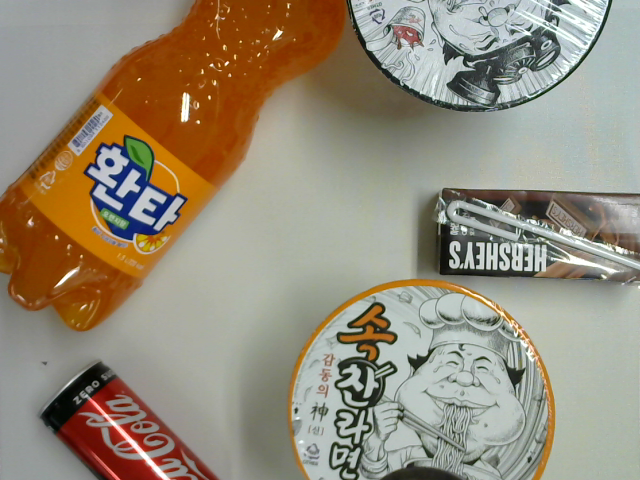Coca_Cola_Zero_Can_250ml: (28, 355, 226, 480)
HeJangsock: (347, 1, 615, 117)
Hejangchan: (286, 278, 561, 480)
Hush_Choco_Drink: (430, 184, 640, 290)
Hwanta_Orange_1.5L: (1, 1, 350, 334)
